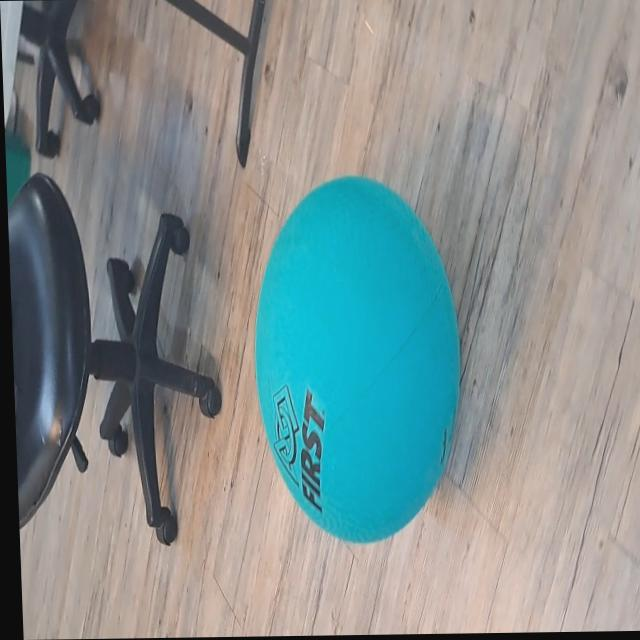ALGAE: (246, 172, 468, 547)
